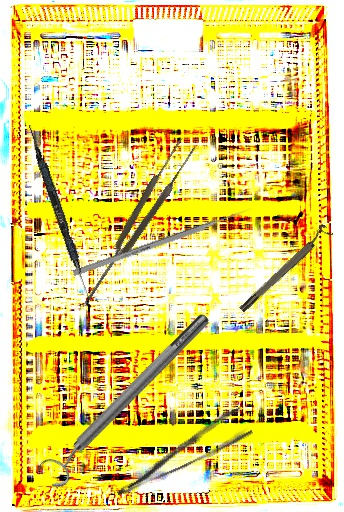Dressing Forceps: (105, 404, 255, 499)
Fixation Ring: (32, 305, 221, 493), (234, 222, 334, 315)
Pusher: (72, 205, 253, 278)
Spatula Surgical: (22, 123, 97, 306)
Tissue Forceps: (74, 136, 199, 311)
